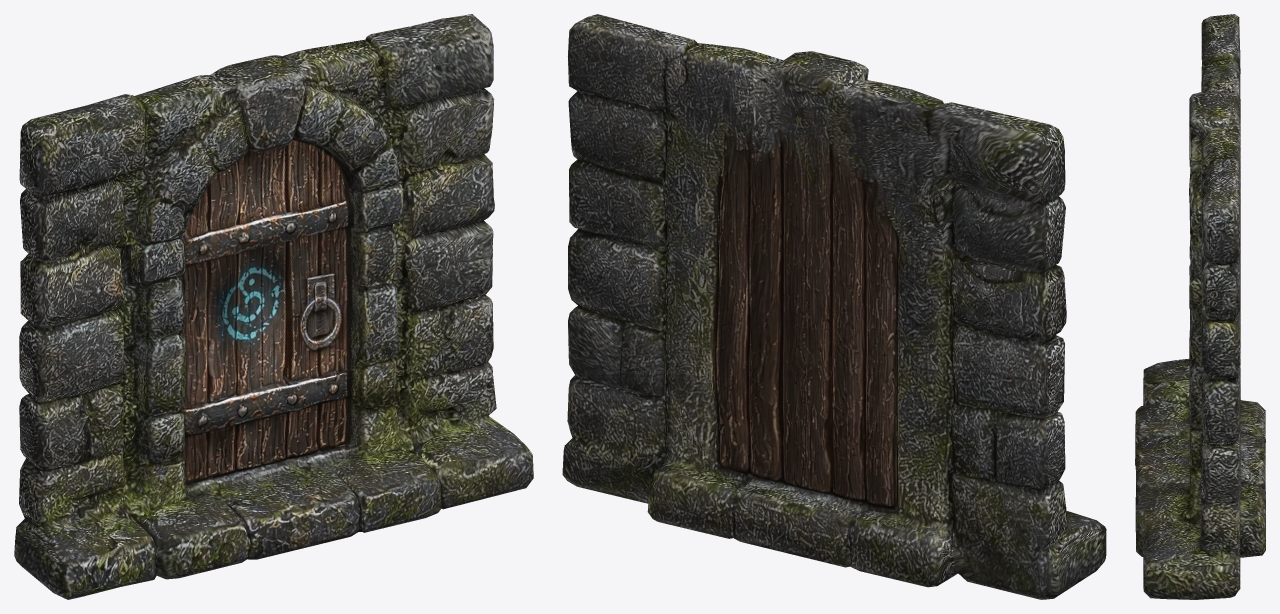
Rendered from tile_door.glb.
The picture shows the model from 3 angles, left to right: view 1: azimuth 30°, elevation 25°; view 2: azimuth 150°, elevation 25°; view 3: azimuth 270°, elevation 25°; orthographic projection. The views are drawn at different scales.
Parts seen in each view (by area): view 1: frame, leaf; view 2: frame, leaf; view 3: frame.
Part boxes in pixels (x1,y1,x2,y2): frame: [14, 14, 533, 599]; leaf: [181, 140, 352, 482]; frame: [562, 14, 1106, 599]; leaf: [717, 142, 897, 507]; frame: [1135, 14, 1265, 599].
Size of the model in its own units: 1.87 by 1.71 by 0.5088.
Materials: 1 (1 with a texture image).
